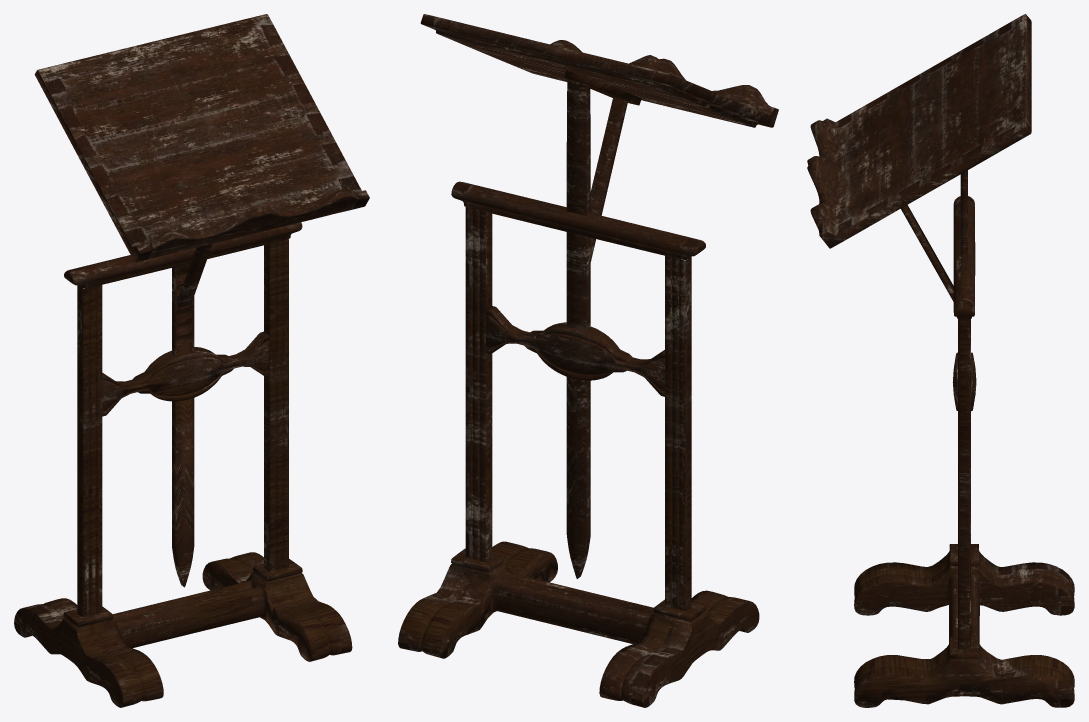
File: atril.glb
3 views of the same model, side by side, from view 1: azimuth 30°, elevation 25°; view 2: azimuth 150°, elevation 25°; view 3: azimuth 270°, elevation 25° (orthographic). The views are drawn at different scales.
Visible parts, largest first — view 1: Object_6; view 2: Object_6; view 3: Object_6.
Boxes of the visible parts, left/top/right/bottom form: Object_6: left=14, top=14, right=369, bottom=707; Object_6: left=398, top=14, right=778, bottom=707; Object_6: left=807, top=14, right=1074, bottom=707.
Bounding box in the file's own units: 50 × 120 × 50.
Materials: 1 (1 with a texture image).
